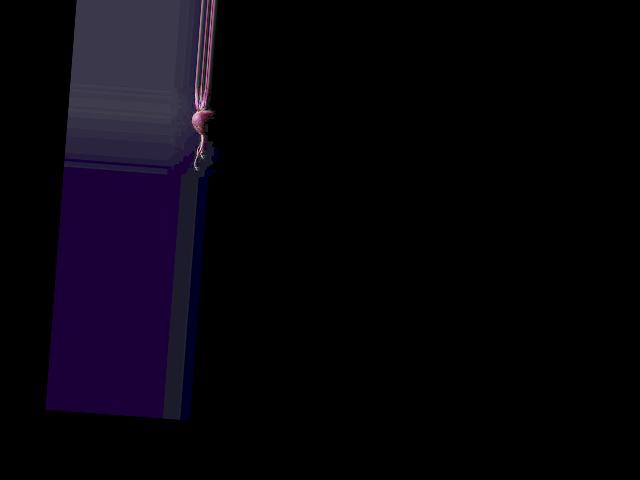beet: (186, 84, 216, 171)
